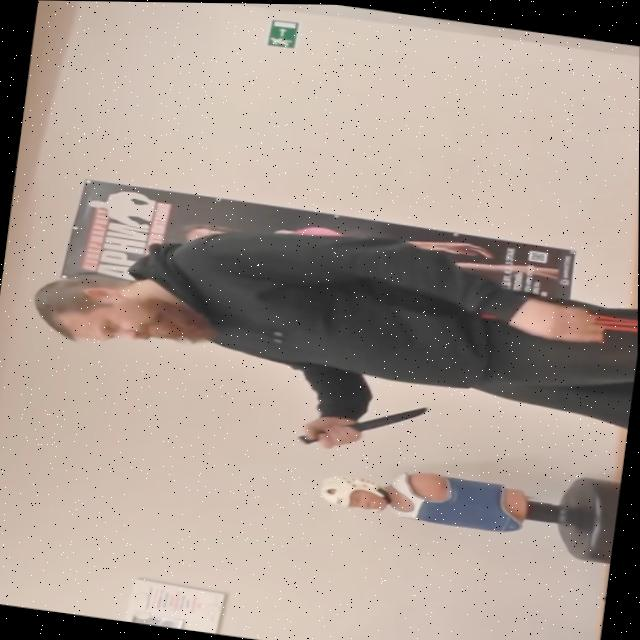knife: (292, 386, 431, 460)
